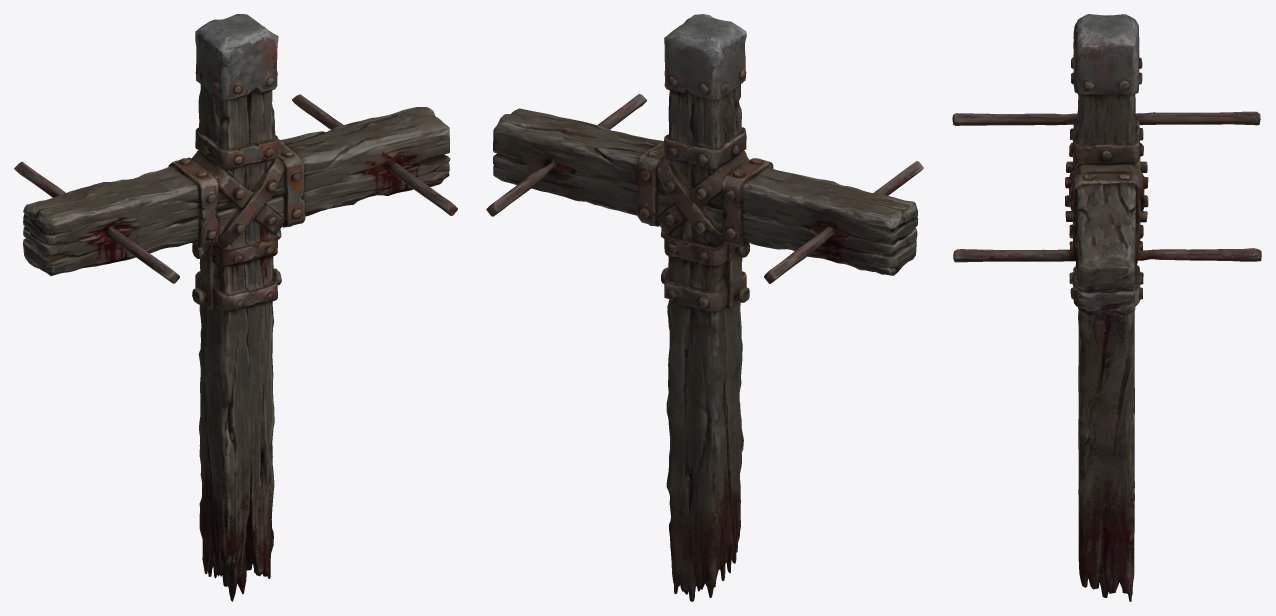
The model's file is tripo_convert_aa6eb455-e144-49a5-b7d9-05aae513b67b.fbx.
The picture shows the model from 3 angles, left to right: view 1: azimuth 30°, elevation 25°; view 2: azimuth 150°, elevation 25°; view 3: azimuth 270°, elevation 25°; orthographic projection.
Parts seen in each view (by area): view 1: tripo_node_aa6eb455; view 2: tripo_node_aa6eb455; view 3: tripo_node_aa6eb455.
Boxes of the visible parts, bbox=[...] form: tripo_node_aa6eb455: bbox=[14, 14, 457, 601]; tripo_node_aa6eb455: bbox=[486, 14, 923, 601]; tripo_node_aa6eb455: bbox=[952, 14, 1261, 601].
Bounding box in the file's own units: 74.07 × 48.52 × 100.
1 material, 1 textured.
